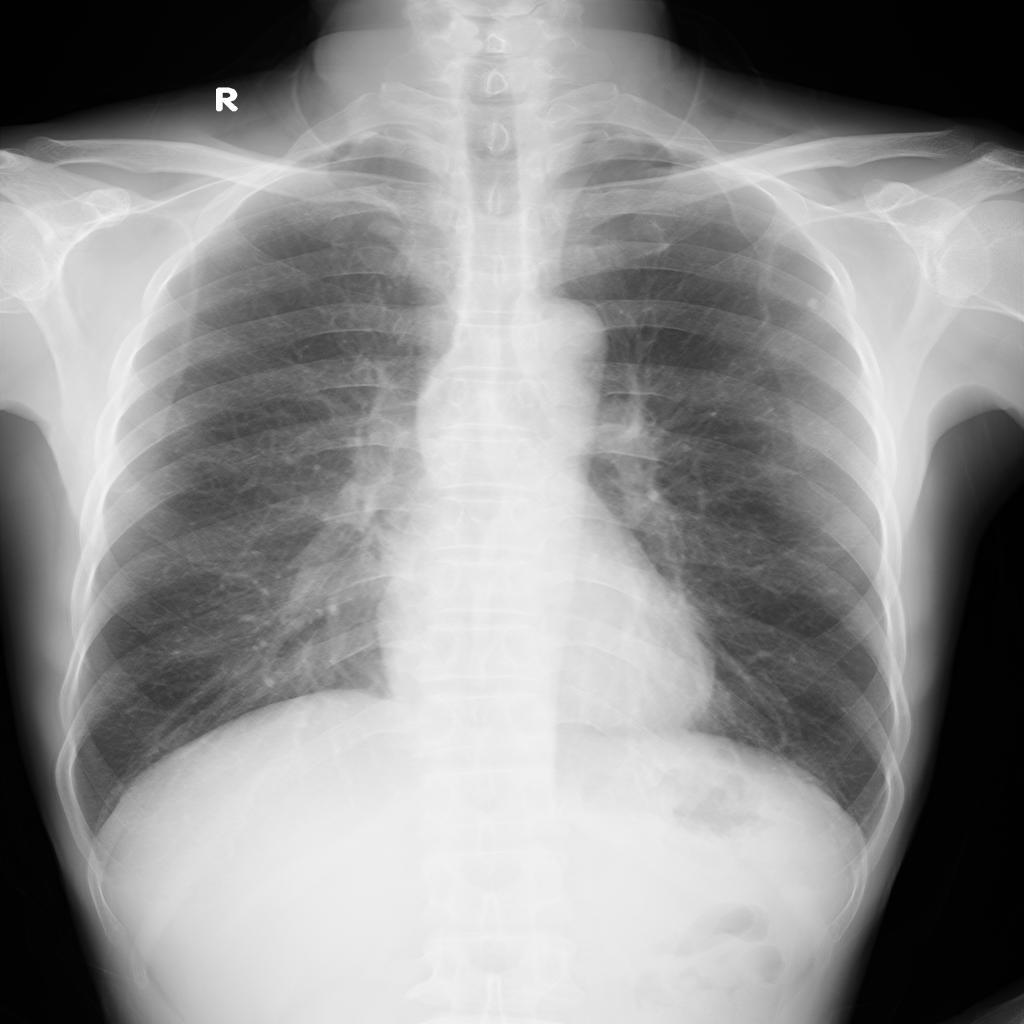Nodule: (361, 212, 407, 242), (804, 298, 818, 312)
